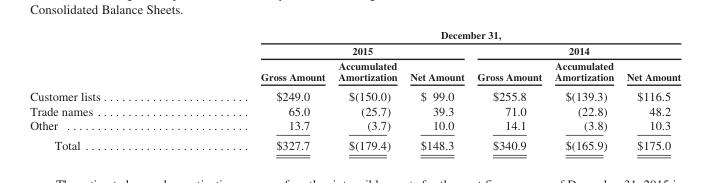table: (29, 28, 680, 152)
table column: (179, 28, 331, 152), (29, 28, 179, 152), (470, 28, 547, 152), (331, 28, 403, 152), (547, 28, 619, 152), (403, 28, 470, 152), (619, 28, 680, 152)
table column header: (29, 28, 680, 85)
table row: (29, 57, 680, 85), (29, 117, 680, 135), (29, 85, 680, 102), (29, 135, 680, 152), (29, 42, 680, 57), (29, 102, 680, 117), (29, 28, 680, 42)
table spanning cell: (179, 28, 680, 42), (179, 42, 470, 57), (470, 42, 680, 57)
